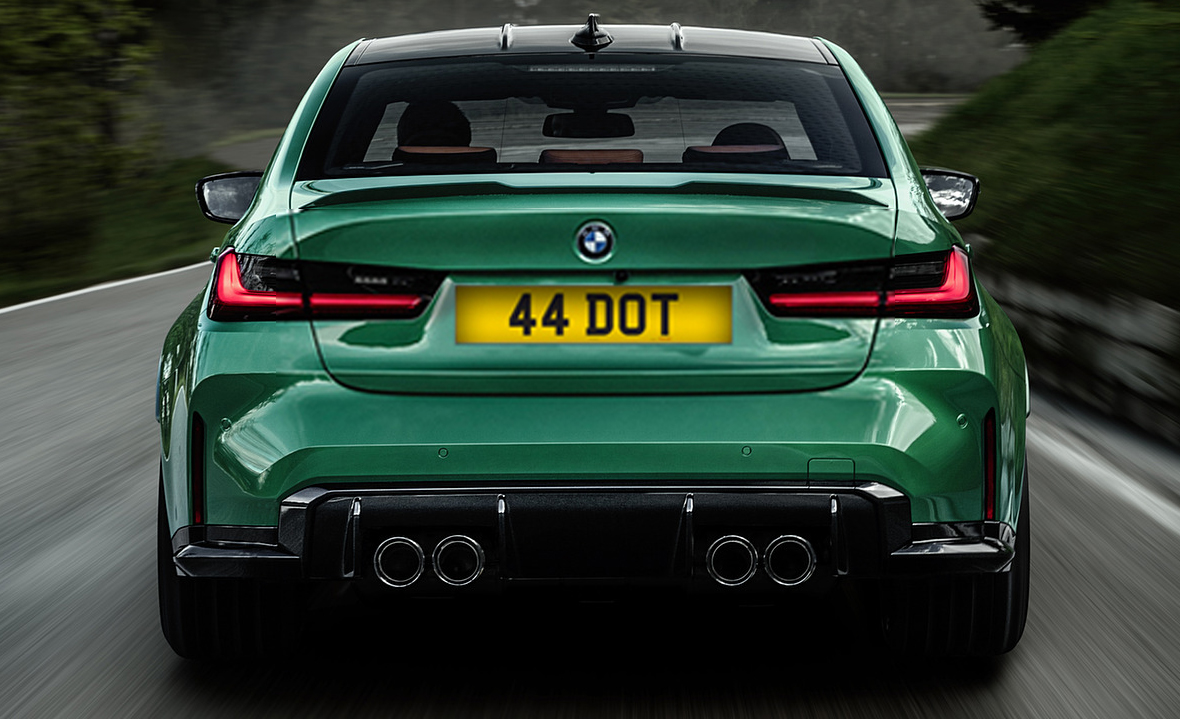number_plates: (450, 282, 734, 344)
